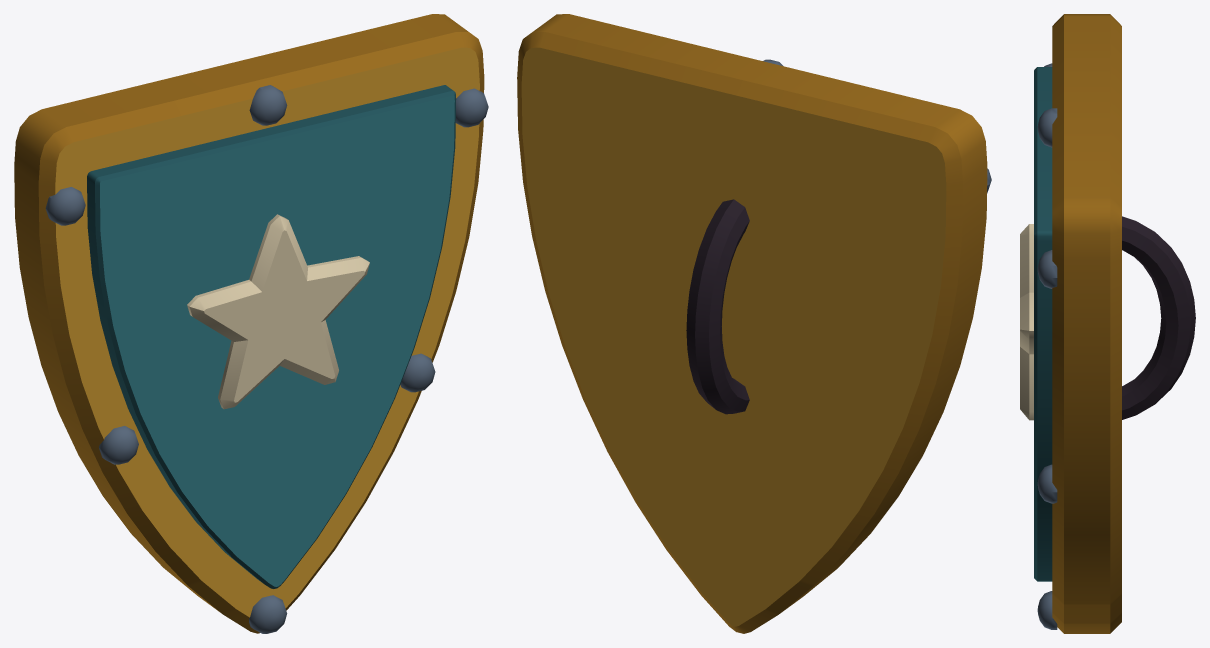
The model's file is HeaterShield_23.glb.
3 views of the same model, side by side, from view 1: azimuth 30°, elevation 25°; view 2: azimuth 150°, elevation 25°; view 3: azimuth 270°, elevation 25° (orthographic). The views are drawn at different scales.
Visible parts, largest first — view 1: HeaterShield_23; view 2: HeaterShield_23; view 3: HeaterShield_23.
Part boxes in pixels (x1,y1,x2,y2): HeaterShield_23: (14,14,488,633); HeaterShield_23: (517,14,991,633); HeaterShield_23: (1020,14,1195,633).
Size of the model in its own units: 2.11 by 2.5 by 0.76.
